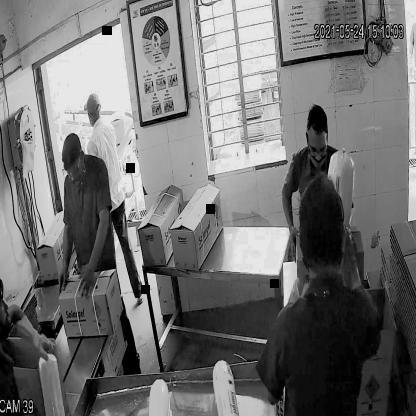goggles: (306, 135, 330, 159)
